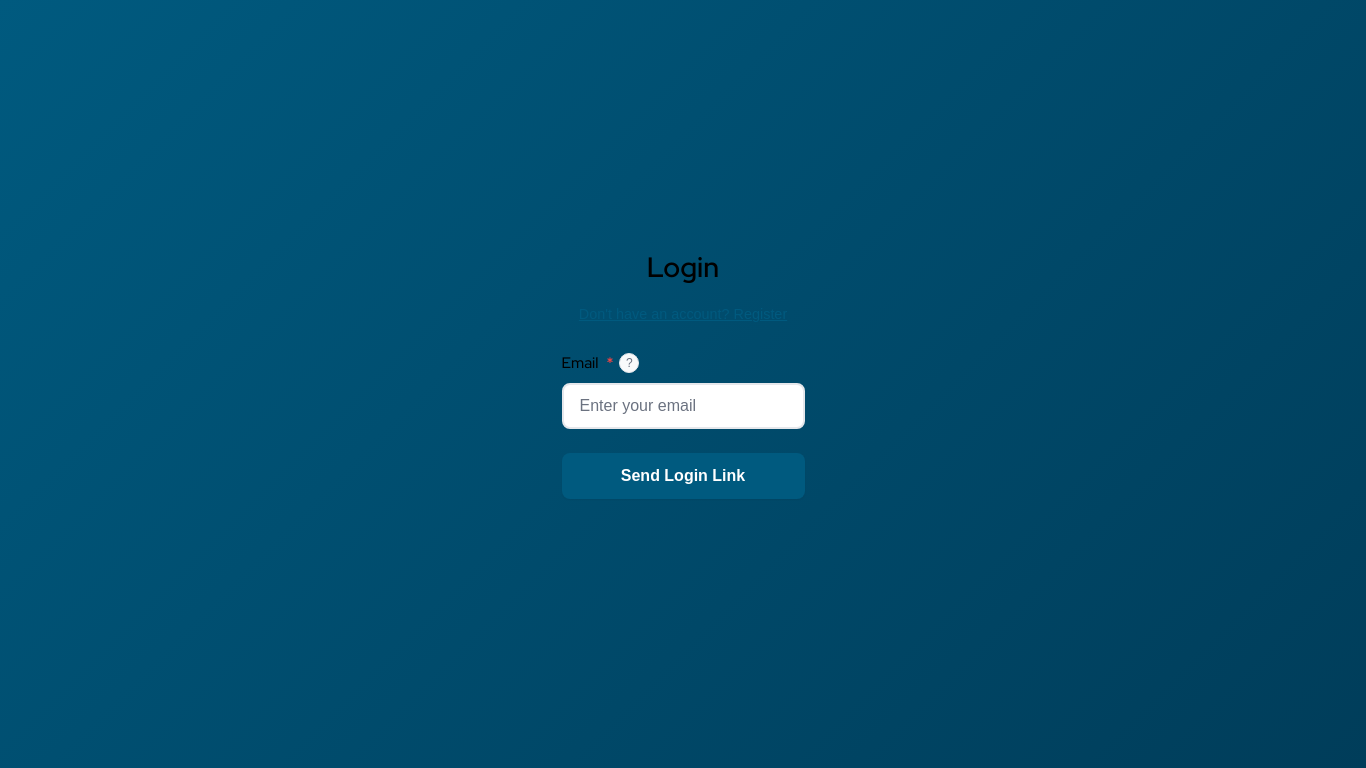
Test case: AuthForm › Login mode › should show magic link sent message after successful request
This screenshot has width=1366, height=768.
Type "test@example.com" into the field with placeholder "Enter your email" at (683, 406), box [562, 383, 804, 429]
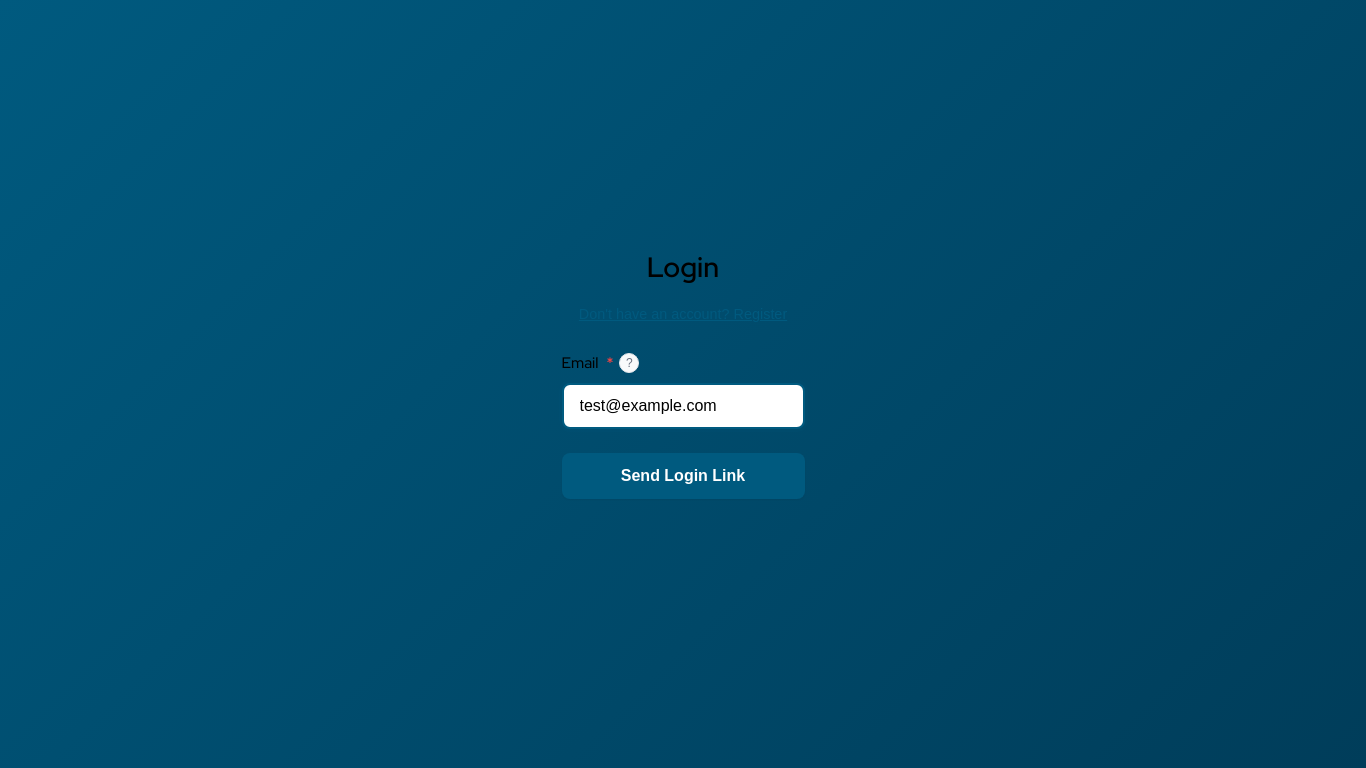
Click the button "Send Login Link" at (683, 476), box [562, 453, 804, 499]
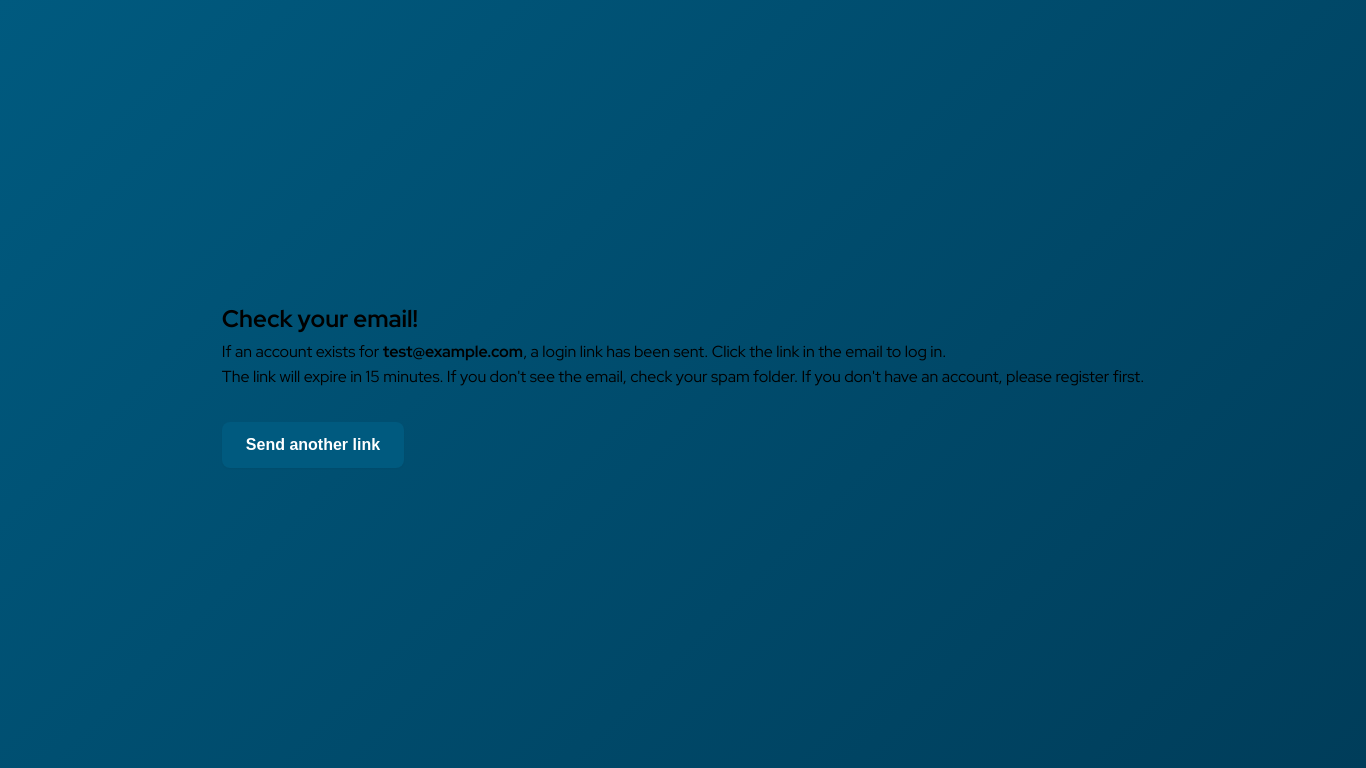
Check: the heading "Check your email!" is shown, box [222, 303, 418, 334]
Check: the text "test@example.com" is shown, box [383, 341, 523, 362]
